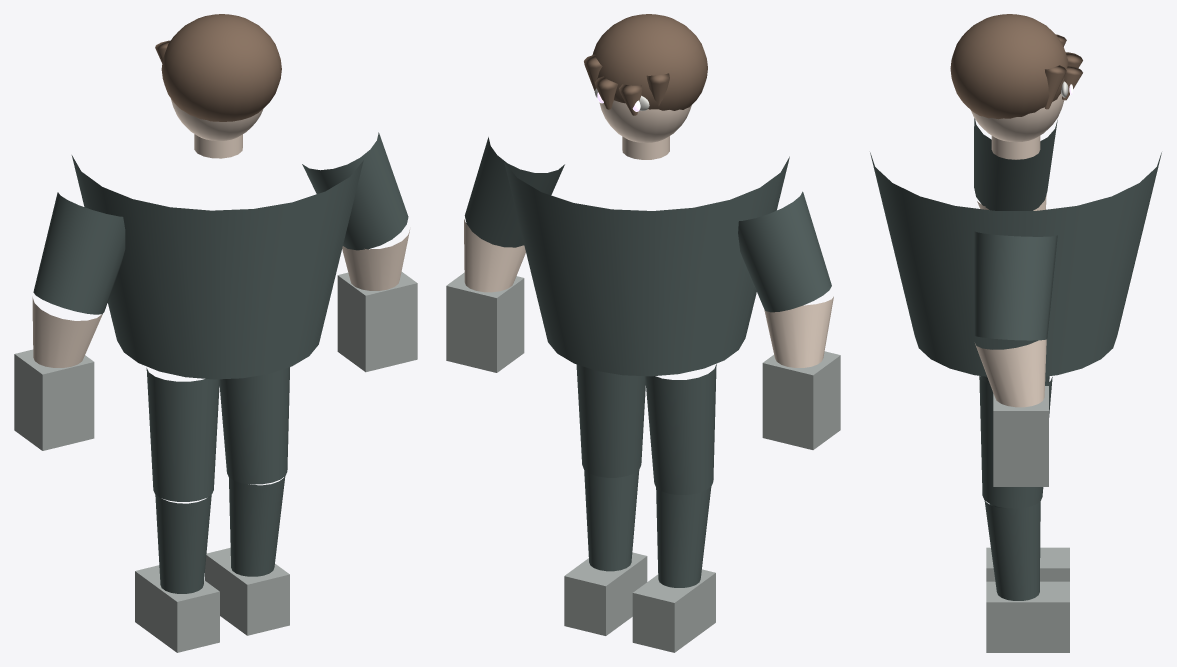
File: perseus-procedural-v1.glb
3 views of the same model, side by side, from view 1: azimuth 30°, elevation 25°; view 2: azimuth 150°, elevation 25°; view 3: azimuth 270°, elevation 25° (orthographic). The views are drawn at different scales.
Visible parts, largest first — view 1: Outfit_Torso, Hair_Cap, Body_Thigh_L, Body_UpperArm_L, Body_Thigh_R, Weapon_Gauntlet_L, Weapon_Gauntlet_R, Body_UpperArm_R, Outfit_Boot_L, Outfit_Boot_R, Body_Shin_R, Body_Shin_L (+4 smaller); view 2: Outfit_Torso, Hair_Cap, Body_Thigh_L, Body_UpperArm_L, Body_Thigh_R, Weapon_Gauntlet_L, Weapon_Gauntlet_R, Outfit_Boot_L, Outfit_Boot_R, Body_Shin_R, Body_UpperArm_R, Body_Shin_L (+4 smaller); view 3: Outfit_Torso, Hair_Cap, Body_UpperArm_R, Outfit_Boot_R, Weapon_Gauntlet_R, Body_UpperArm_L, Body_Shin_R, Body_Forearm_R, Body_Thigh_R, Body_Head, Outfit_Boot_L, Body_Neck (+1 smaller).
Part boxes in pixels (x1,y1,x2,y2): Outfit_Torso: [71, 155, 363, 379]; Hair_Cap: [161, 14, 281, 121]; Body_Thigh_L: [146, 368, 219, 501]; Body_UpperArm_L: [33, 192, 125, 314]; Body_Thigh_R: [219, 367, 289, 484]; Weapon_Gauntlet_L: [14, 349, 94, 450]; Weapon_Gauntlet_R: [337, 272, 417, 372]; Body_UpperArm_R: [302, 132, 408, 250]; Outfit_Boot_L: [135, 565, 219, 652]; Outfit_Boot_R: [205, 547, 289, 635]; Body_Shin_R: [229, 476, 285, 576]; Body_Shin_L: [155, 494, 211, 593]; Outfit_Torso: [504, 156, 789, 376]; Hair_Cap: [592, 14, 707, 110]; Body_Thigh_L: [645, 364, 716, 494]; Body_UpperArm_L: [738, 191, 831, 312]; Body_Thigh_R: [576, 364, 645, 477]; Weapon_Gauntlet_L: [762, 351, 840, 449]; Weapon_Gauntlet_R: [446, 272, 524, 372]; Outfit_Boot_L: [632, 569, 715, 652]; Outfit_Boot_R: [564, 552, 647, 635]; Body_Shin_R: [584, 469, 639, 571]; Body_UpperArm_R: [464, 137, 564, 247]; Body_Shin_L: [656, 486, 711, 587]; Outfit_Torso: [870, 152, 1161, 376]; Hair_Cap: [950, 14, 1068, 119]; Body_UpperArm_R: [974, 231, 1057, 340]; Outfit_Boot_R: [986, 581, 1069, 652]; Weapon_Gauntlet_R: [993, 386, 1048, 486]; Body_UpperArm_L: [974, 118, 1057, 210]; Body_Shin_R: [984, 500, 1040, 600]; Body_Forearm_R: [975, 339, 1046, 407]; Body_Thigh_R: [979, 376, 1052, 508]; Body_Head: [971, 93, 1063, 142]; Outfit_Boot_L: [986, 547, 1069, 581]; Body_Neck: [991, 136, 1040, 159].
Size of the model in its own units: 1.23 by 1.91 by 0.84.
